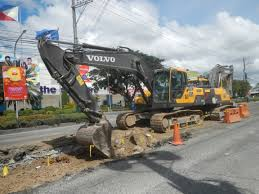excavator: (38, 37, 207, 162)
